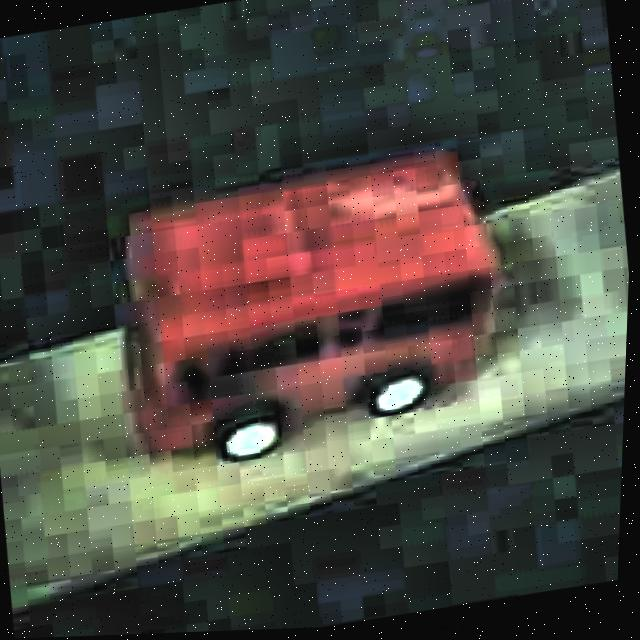bus: (94, 127, 527, 481)
